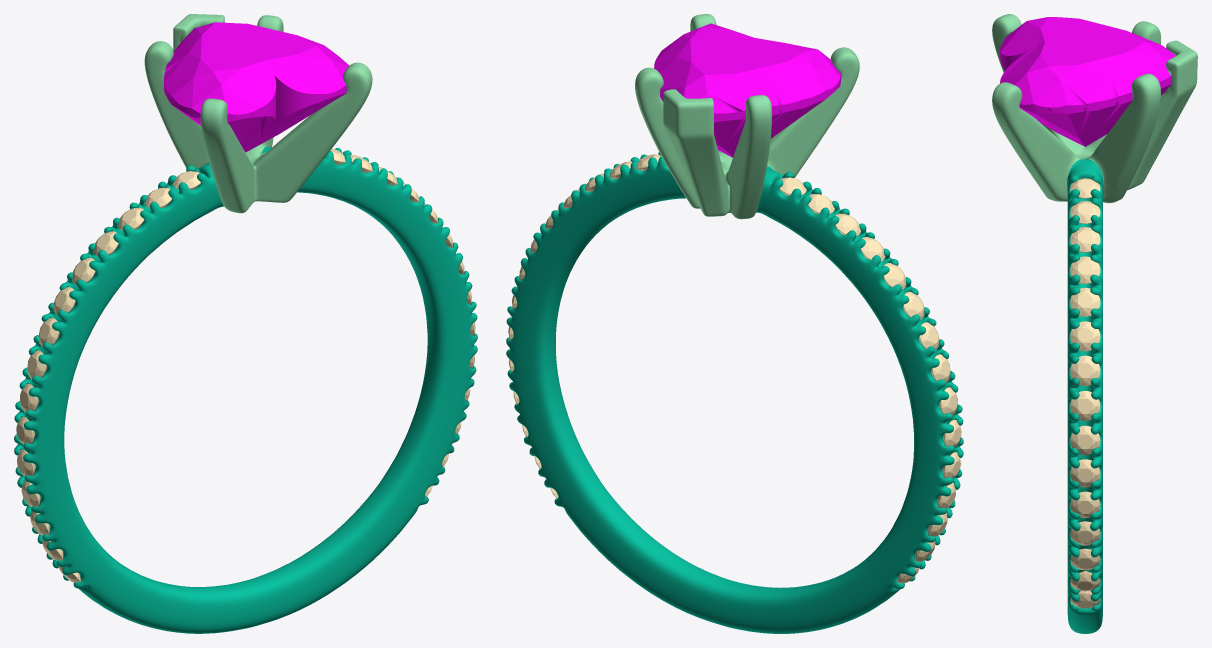
The model's file is BE164_HT_200ct_RENDER.glb.
The picture shows the model from 3 angles, left to right: view 1: azimuth 30°, elevation 25°; view 2: azimuth 150°, elevation 25°; view 3: azimuth 270°, elevation 25°; orthographic projection. The views are drawn at different scales.
Parts seen in each view (by area): view 1: Metal 01, CS_Diamond_Heart, Metal 02; view 2: Metal 01, Metal 02, CS_Diamond_Heart; view 3: CS_Diamond_Heart, Metal 02, Metal 01, Diamond_Round_Gem_SH.006, Diamond_Round_Gem_SH.005, Diamond_Round_Gem_SH.007, Diamond_Round_Gem_SH.008, Diamond_Round_Gem_SH.004, Diamond_Round_Gem_SH.009, Diamond_Round_Gem_SH.003, Diamond_Round_Gem_SH.010, Diamond_Round_Gem_SH.002 (+6 smaller).
Boxes of the visible parts, bbox=[...] form: Metal 01: bbox=[14, 146, 477, 633]; CS_Diamond_Heart: bbox=[164, 22, 349, 152]; Metal 02: bbox=[144, 14, 372, 213]; Metal 01: bbox=[506, 152, 963, 633]; Metal 02: bbox=[635, 14, 859, 219]; CS_Diamond_Heart: bbox=[654, 23, 841, 157]; CS_Diamond_Heart: bbox=[1000, 17, 1175, 146]; Metal 02: bbox=[992, 14, 1197, 203]; Metal 01: bbox=[1067, 159, 1103, 633]; Diamond_Round_Gem_SH.006: bbox=[1070, 355, 1100, 385]; Diamond_Round_Gem_SH.005: bbox=[1070, 321, 1100, 351]; Diamond_Round_Gem_SH.007: bbox=[1070, 390, 1100, 420]; Diamond_Round_Gem_SH.008: bbox=[1070, 425, 1100, 455]; Diamond_Round_Gem_SH.004: bbox=[1070, 287, 1100, 316]; Diamond_Round_Gem_SH.009: bbox=[1070, 459, 1100, 487]; Diamond_Round_Gem_SH.003: bbox=[1070, 256, 1100, 283]; Diamond_Round_Gem_SH.010: bbox=[1070, 491, 1100, 518]; Diamond_Round_Gem_SH.002: bbox=[1070, 227, 1100, 252].
Bounding box in the file's own units: 20.29 × 24.82 × 8.14.
